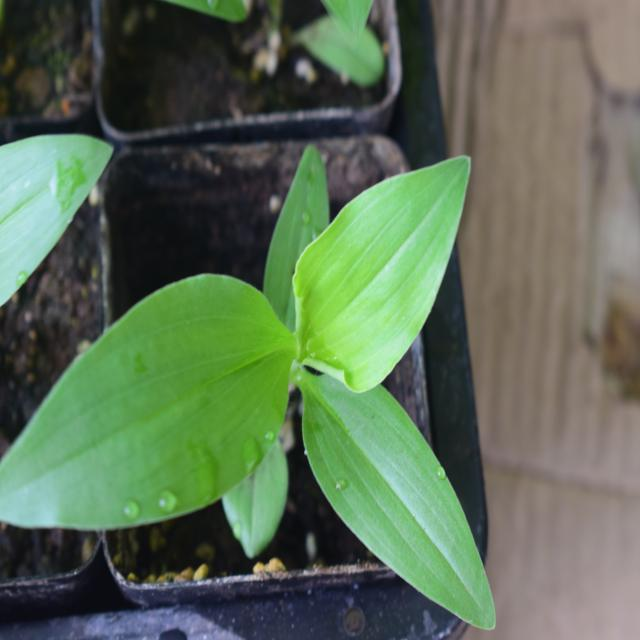Common Dayflower: (12, 166, 509, 629)
